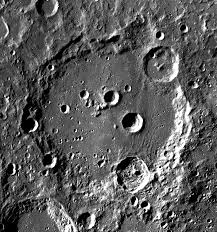crater: (19, 22, 203, 206), (110, 153, 158, 195), (140, 45, 184, 85), (117, 108, 154, 138), (152, 28, 168, 42)
